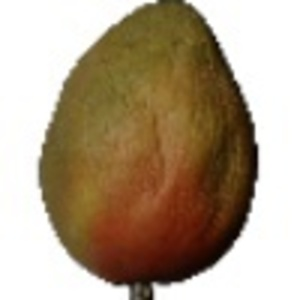mamão: (31, 3, 264, 286)
